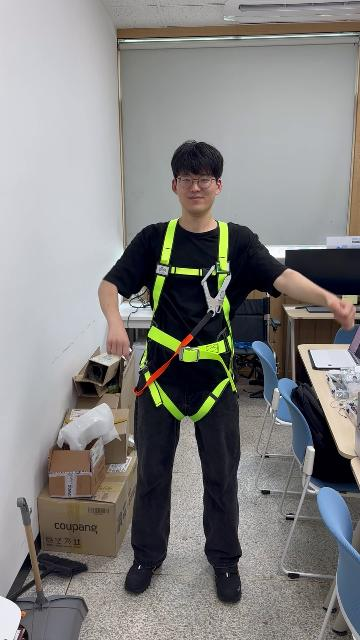helmet_not_worn: (169, 138, 227, 192)
shoe_worn: (124, 557, 165, 594), (213, 567, 242, 602)
vest_worn: (136, 223, 239, 417)
